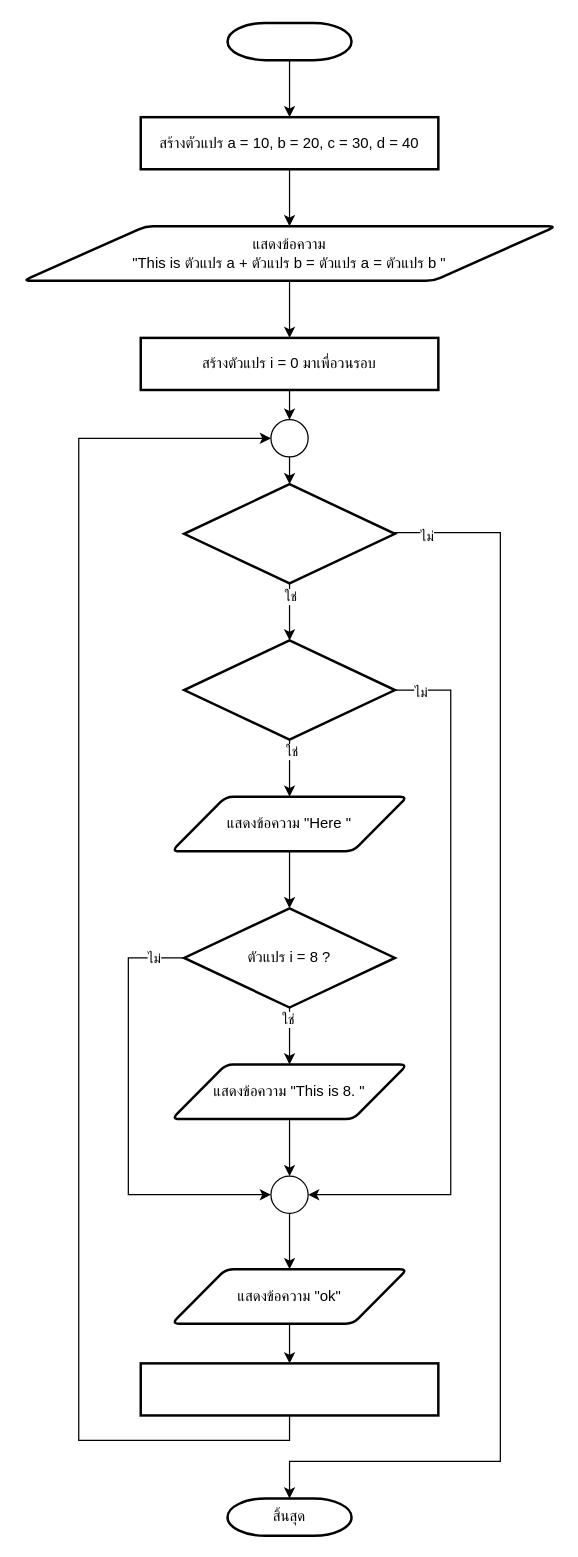
Image size: 578x1557. Some labels were removed from this diagram. Each missing label, with the centre of its shape:
ตัวแปร i < 30 ?: the point at 289,689
ตัวแปร i < d - 30 ?: the point at 289,533
ตัวแปร i บวก 1: the point at 289,1389
เริ่มต้น: the point at 289,41
